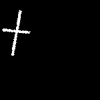single_crochet: (3, 10, 28, 54)
